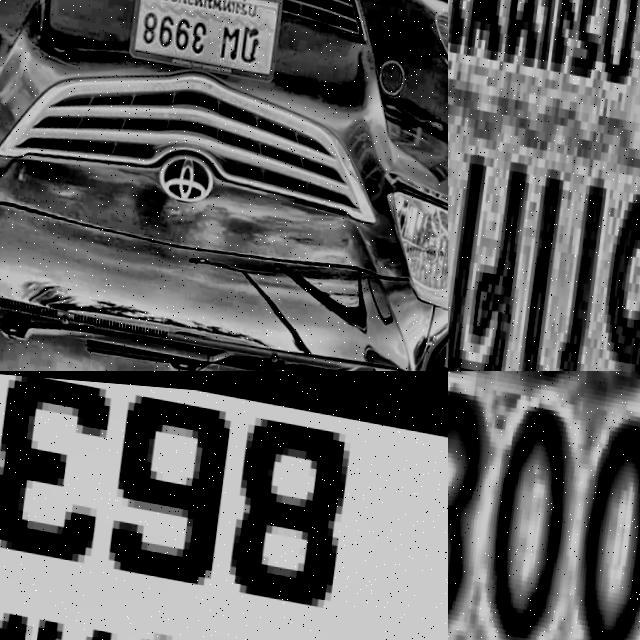license-plate: (0, 371, 448, 640), (448, 0, 640, 371), (448, 371, 640, 640), (128, 0, 286, 78)
